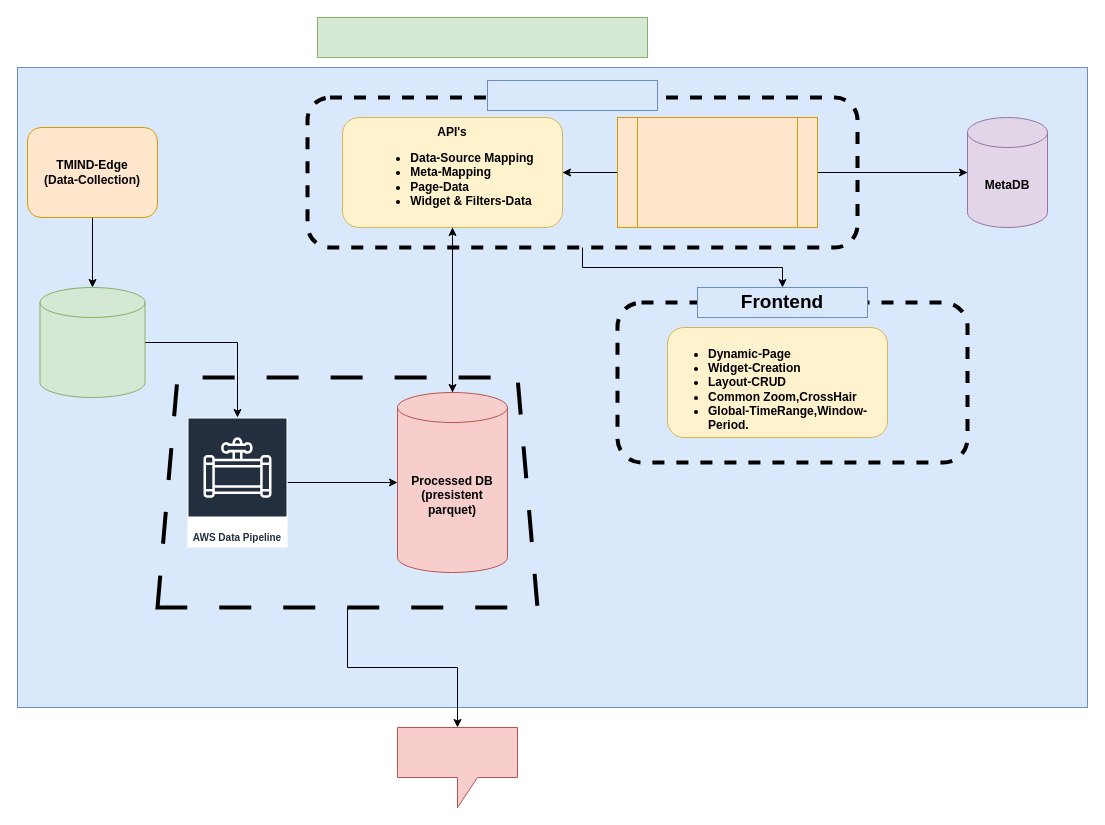
Some shapes in this 1105 by 825 pixel diagram are drawn without their labels. Each missing label, with the box of its shape:
Backend: (486, 80, 658, 110)
ConnectionDB Meta-Mapping Page data-retrieval Schema-Discovery: (616, 116, 818, 228)
M onitoring- A nalitical- P reventive PlatForm: (316, 16, 648, 58)
Raw-DataBase: (39, 286, 145, 398)
